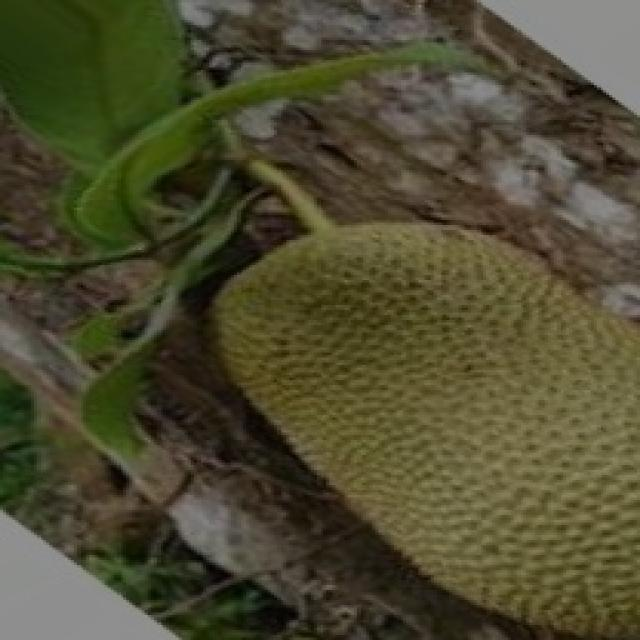Fruit: (200, 197, 637, 635), (0, 0, 212, 185)
